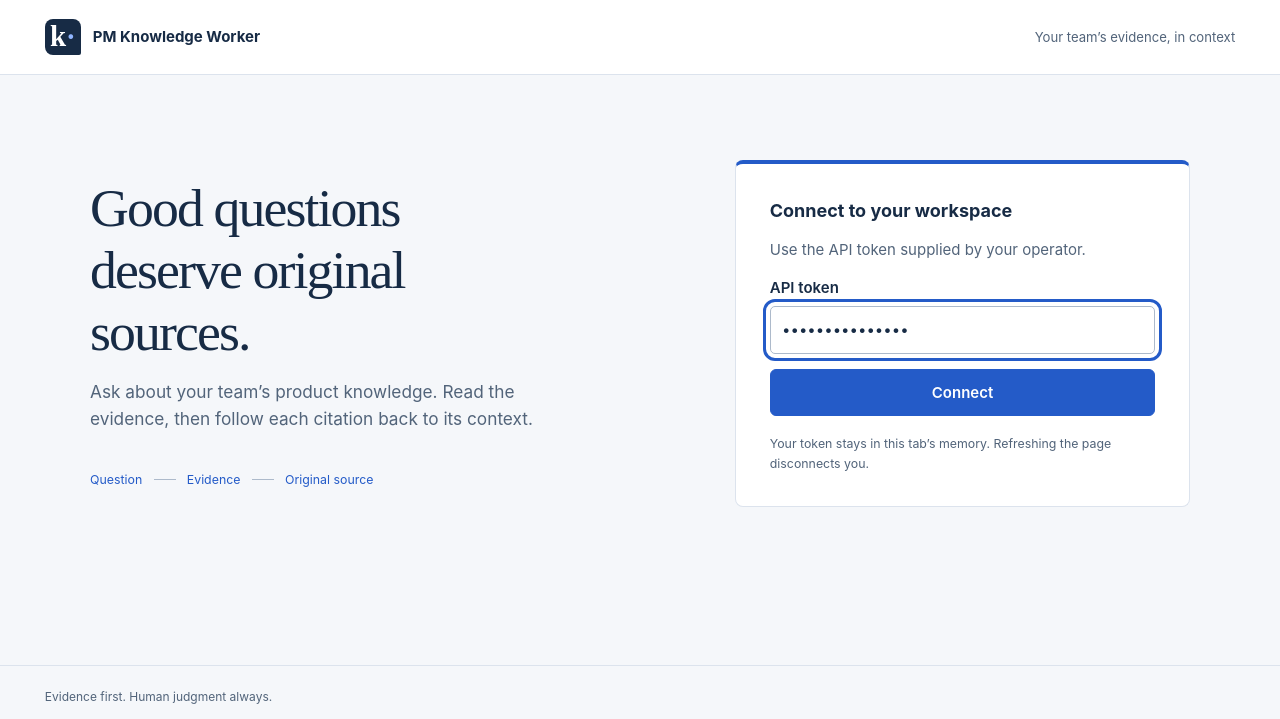
Test case: requires explicit confirmation, publishes and preserves exact verified source evidence
Earlier steps of the test are not shown.
Step 1. Click the button "Connect" → (963, 392), box [770,369,1155,416]
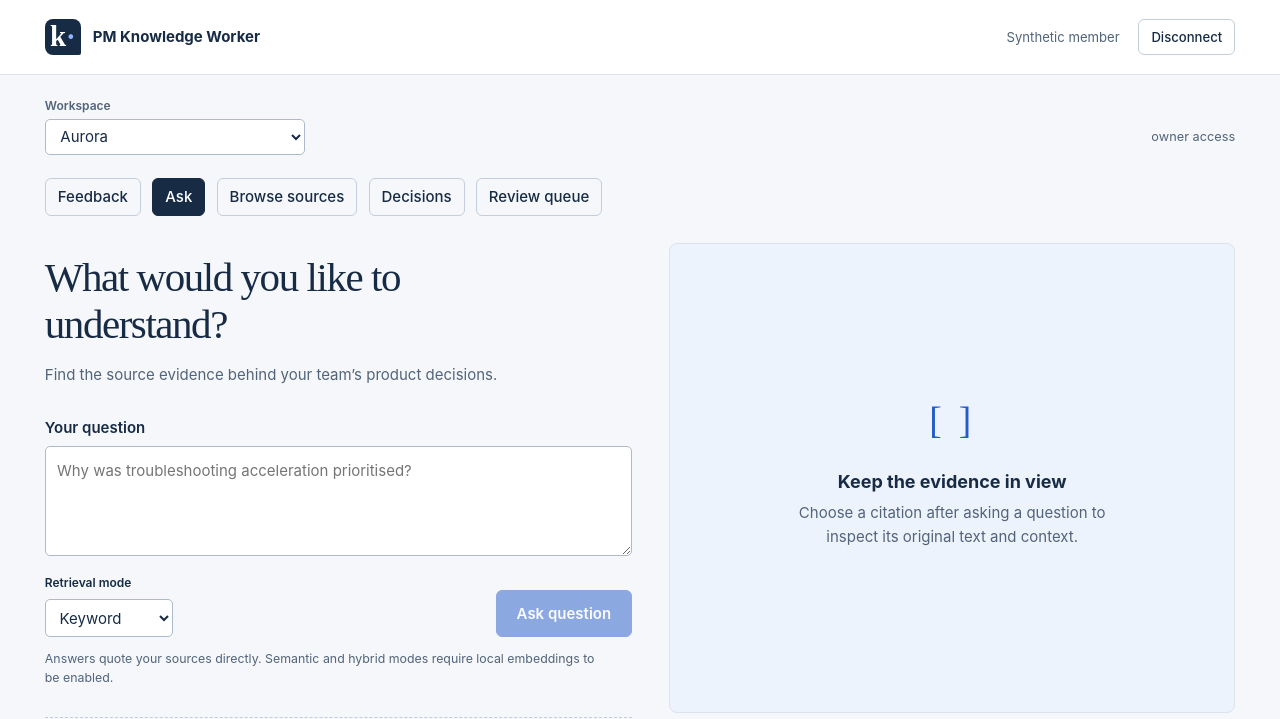
Expected: the dropdown labelled "Workspace" is shown, [45,119,305,155]
Step 2. Click the button "Review queue" → (539, 197), box [476,178,602,216]
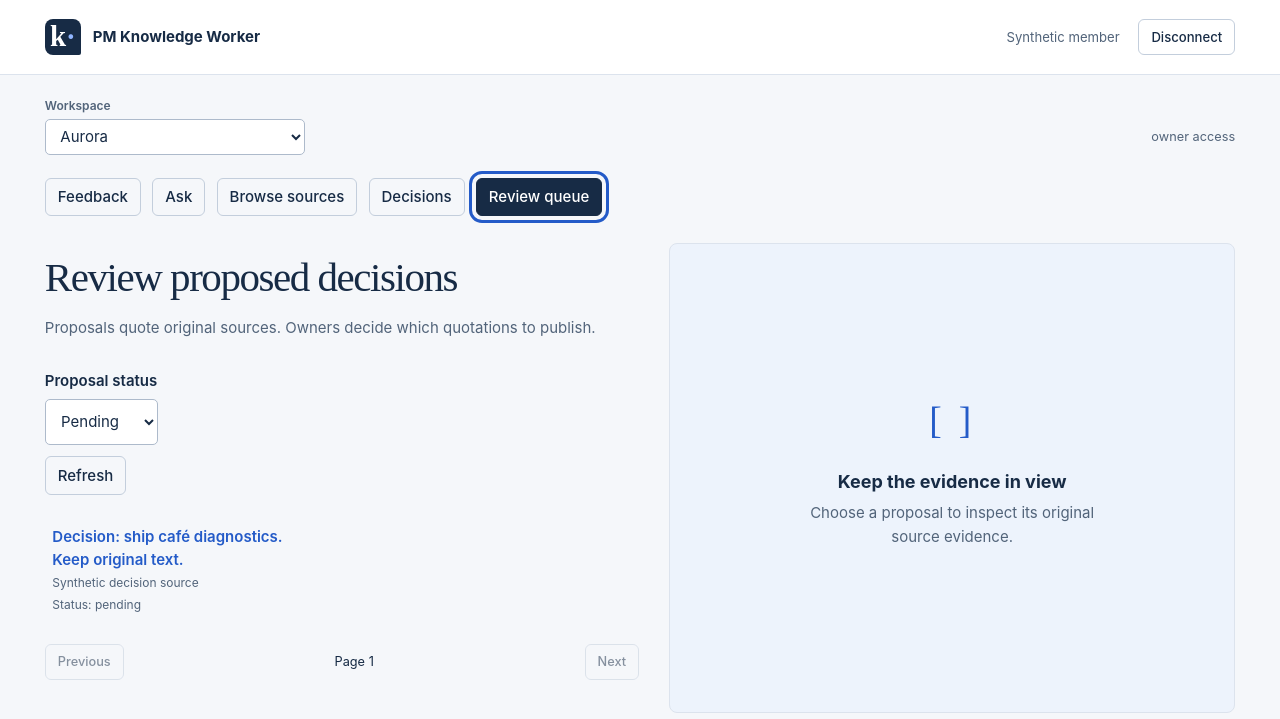
Step 3. Click the button with aria-label "Open proposal p1" → (167, 536), box [45,510,639,629]
(page scrolled)
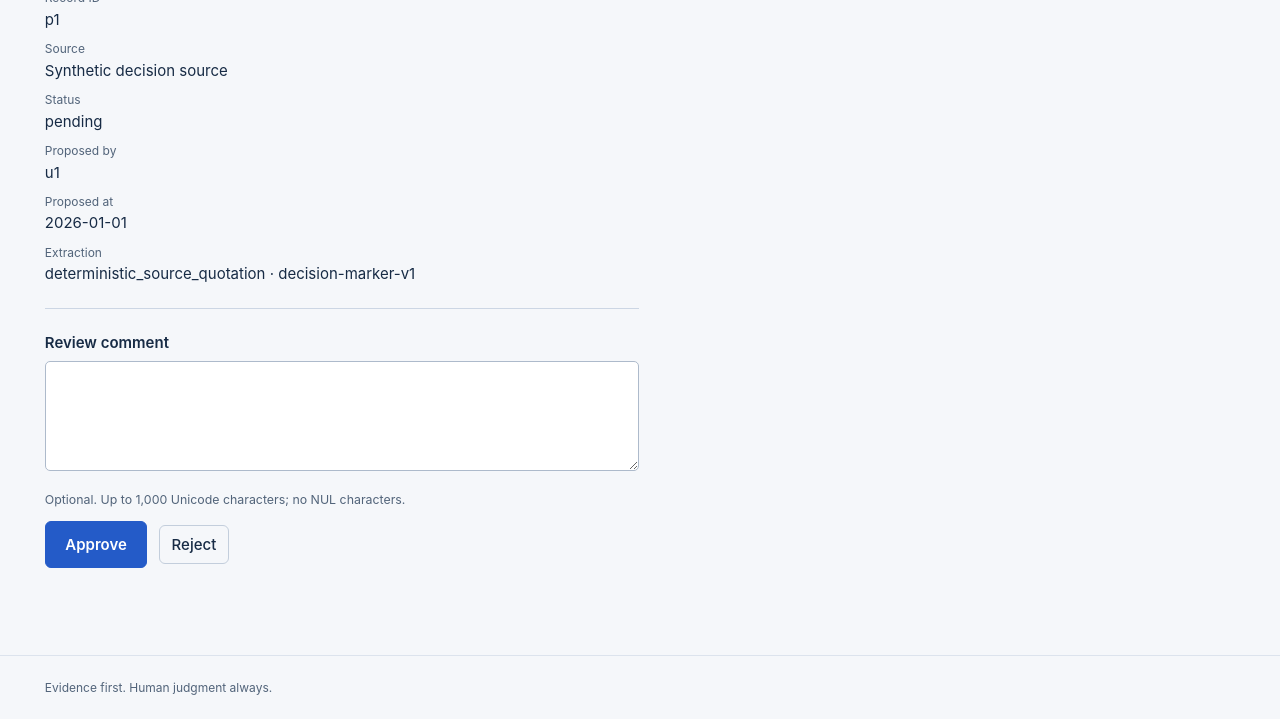
Step 4. Type "  Checked evidence.  " into the text box labelled "Review comment" → (342, 416), box [45,362,639,472]
Step 5. Click the button "Approve" → (96, 545), box [45,521,147,568]
(page scrolled)
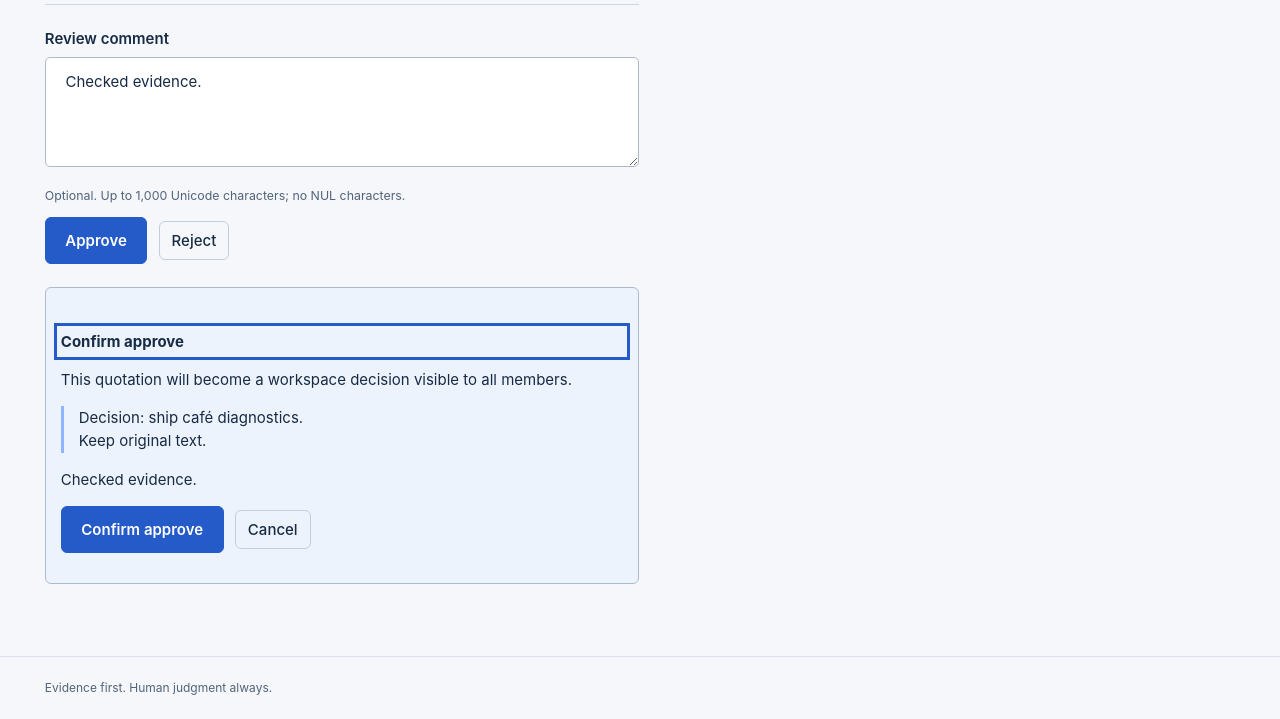
Expected: the text "will become a workspace decision" is shown, [61,370,572,389]
Step 6. Click the button "Confirm approve" → (142, 529), box [61,506,224,553]
(page scrolled)
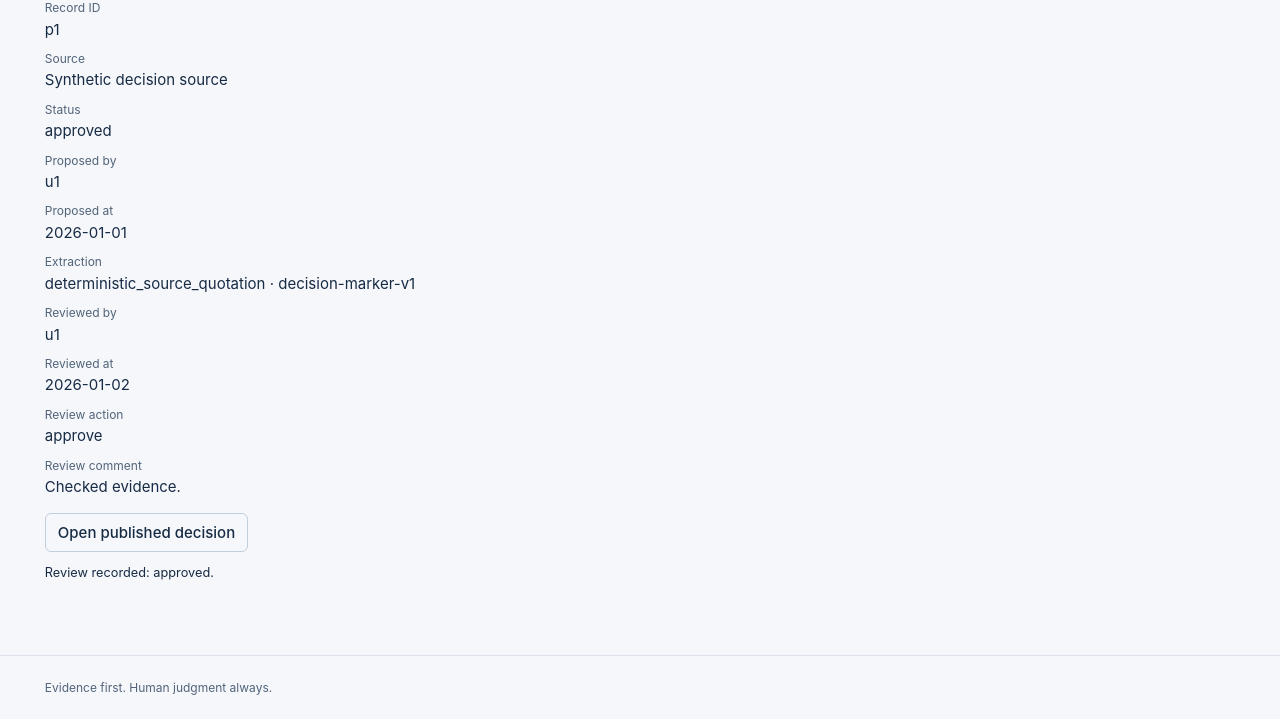
Expected: the text "Review recorded: approved." is shown, [45,565,214,580]
Step 7. Click the button "Open published decision" → (146, 533), box [45,513,248,552]
(page scrolled)
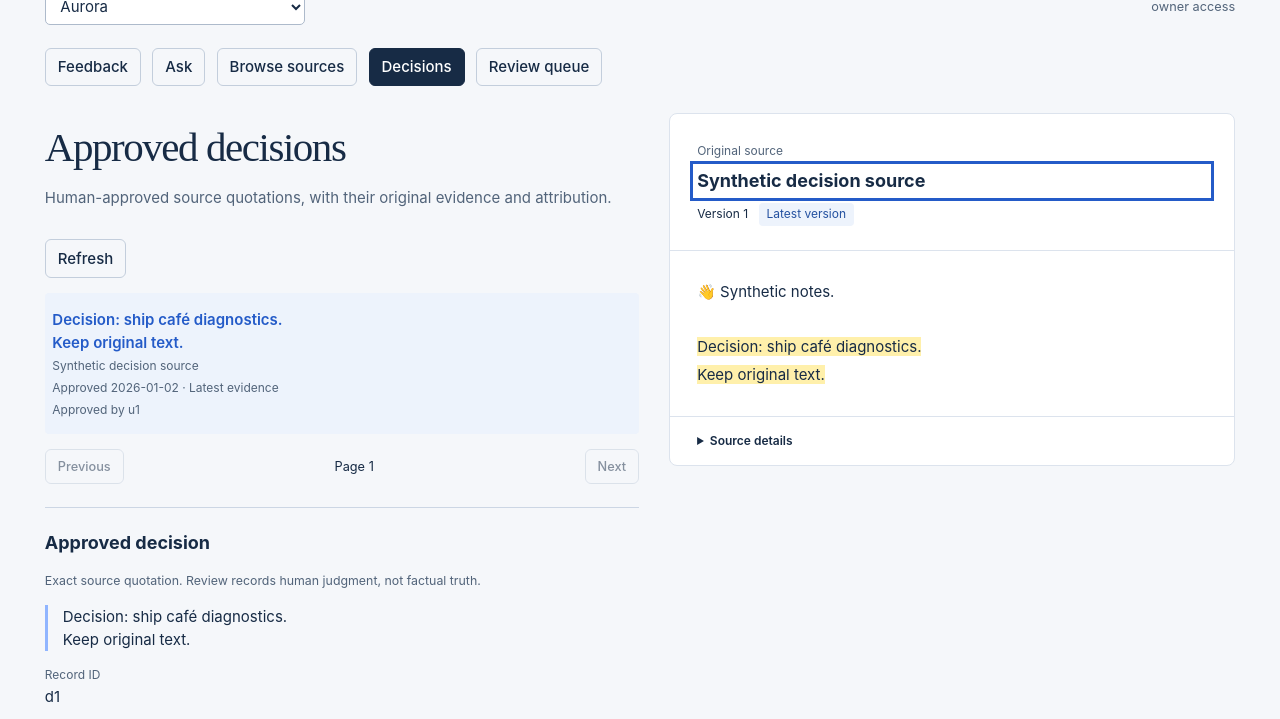
Expected: the heading "Approved decision" is shown, [45,532,210,554]
